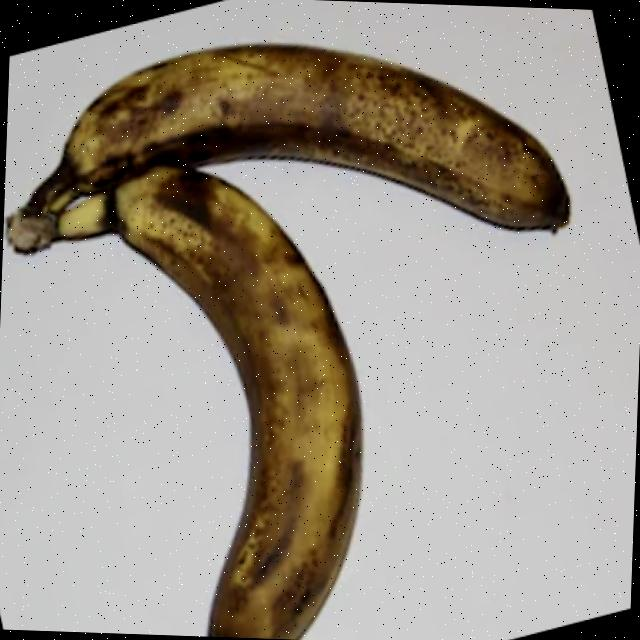Rotten: (83, 143, 384, 640), (12, 16, 594, 259)
